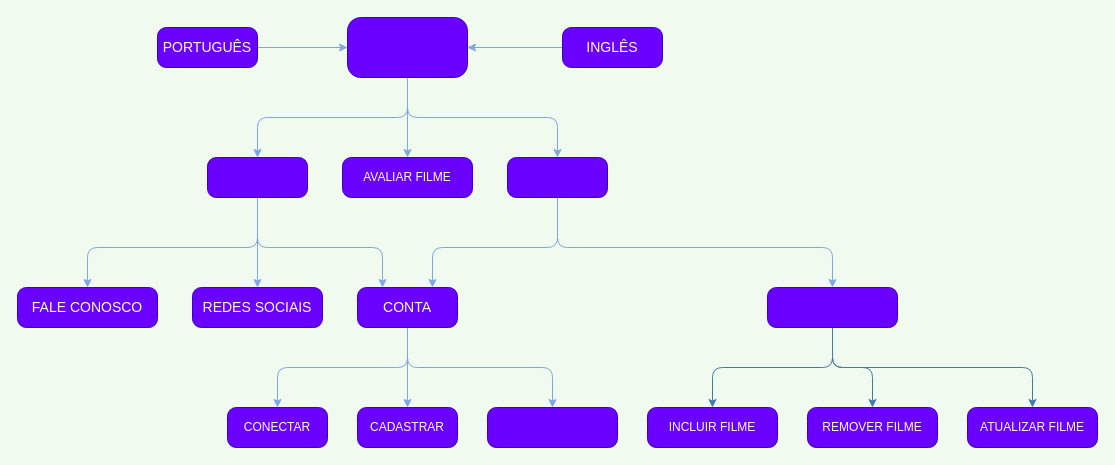
Some shapes in this 1115 by 465 pixel diagram are drawn without their labels. Each missing label, with the centre of its shape:
"DESCONECTAR" belongs at (x=552, y=427).
"FOOTER" belongs at (x=257, y=177).
"HEADER" belongs at (x=557, y=177).
"HOME" belongs at (x=407, y=47).
"MEUS FILMES (DASHBOARD)" belongs at (x=832, y=307).
